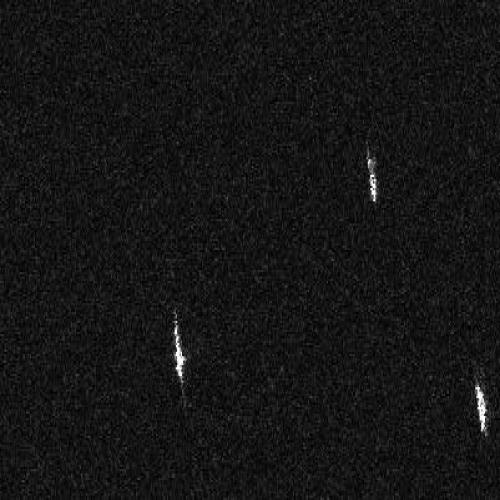ship: (173, 316, 186, 384), (473, 382, 489, 434), (366, 156, 378, 205)
